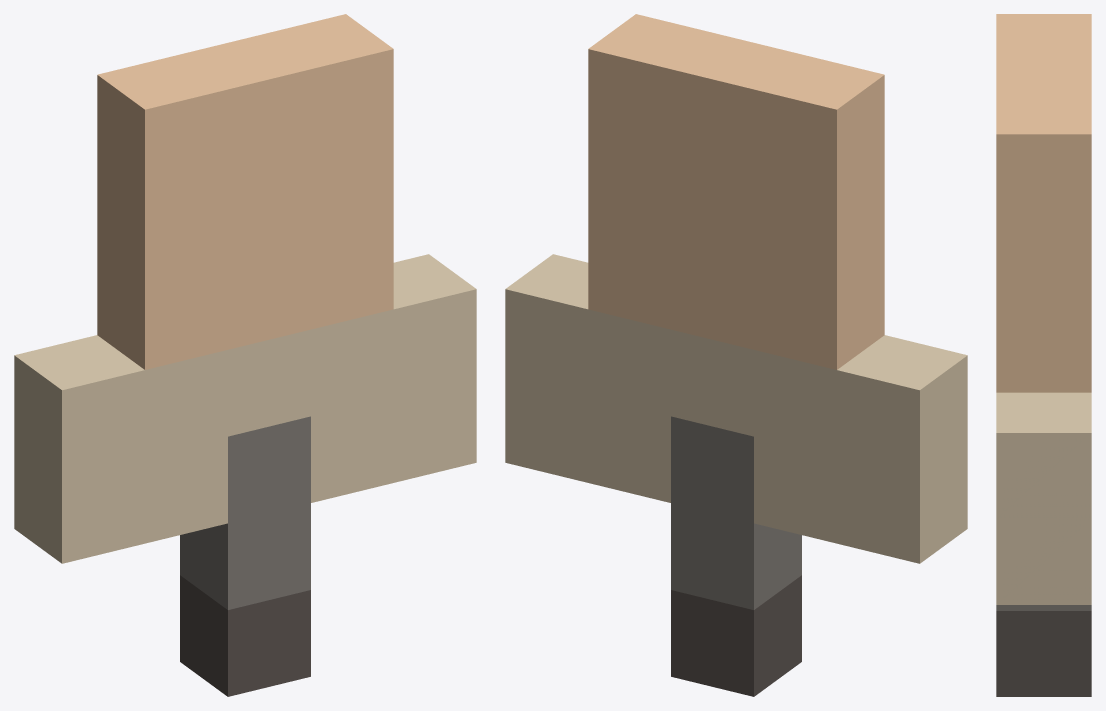
Rendered from villager.lod1.glb.
3 views of the same model, side by side, from view 1: azimuth 30°, elevation 25°; view 2: azimuth 150°, elevation 25°; view 3: azimuth 270°, elevation 25° (orthographic).
Parts seen in each view (by area): view 1: VX_villager_LOD1; view 2: VX_villager_LOD1; view 3: VX_villager_LOD1.
Boxes of the visible parts, box(x1,y1,x2,y2) form: VX_villager_LOD1: box(14, 14, 476, 696); VX_villager_LOD1: box(505, 14, 967, 696); VX_villager_LOD1: box(996, 14, 1091, 696).
Bounding box in the file's own units: 2.2 × 3.08 × 0.44.
